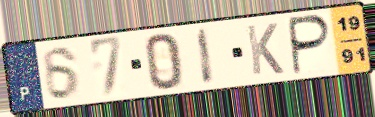0: (143, 31, 184, 92)
6: (40, 45, 84, 101)
7: (87, 33, 124, 102)
I: (195, 26, 217, 87)
K: (243, 21, 287, 77)
P: (288, 13, 334, 77)
